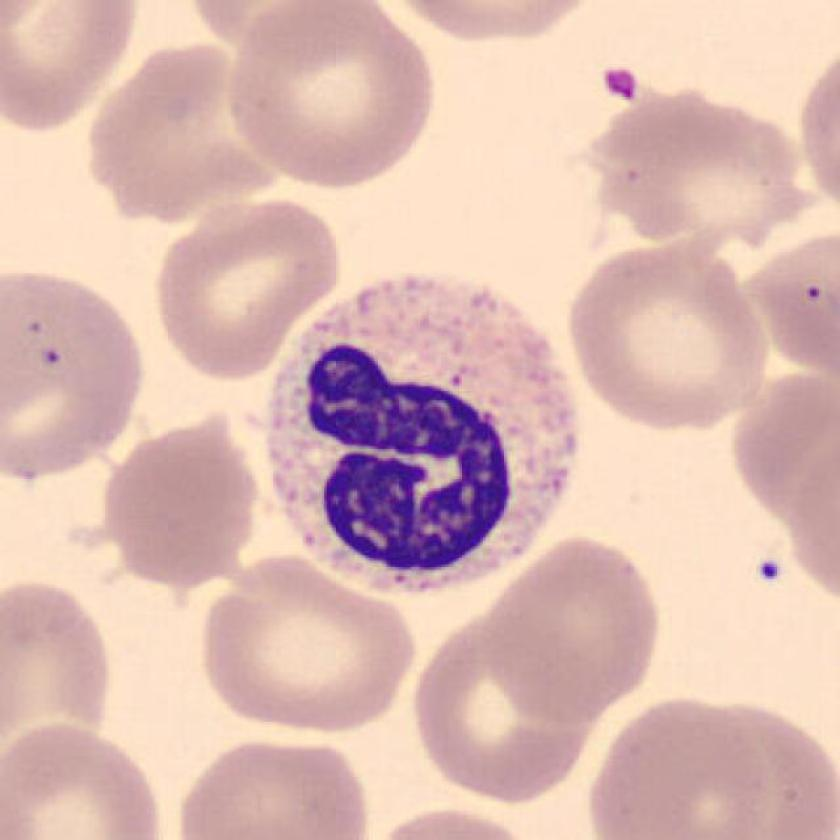neutrophil: (268, 280, 575, 591)
